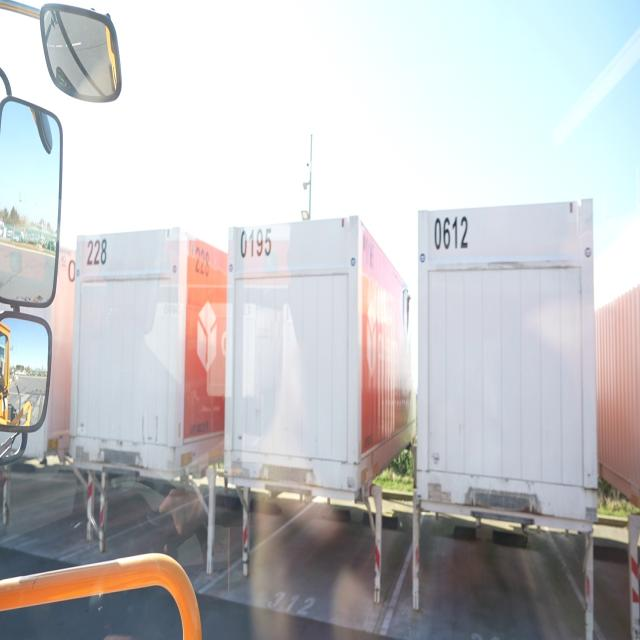Code: (432, 214, 470, 253), (239, 223, 276, 260), (82, 233, 114, 274), (192, 246, 214, 282)
